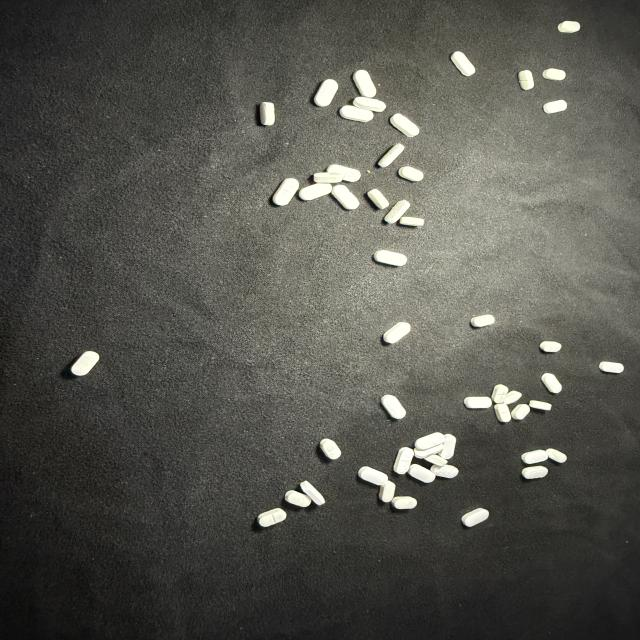pill: (272, 178, 299, 205), (71, 351, 99, 376), (331, 184, 359, 209), (390, 114, 419, 137), (314, 79, 338, 106), (353, 70, 376, 98), (378, 144, 405, 167), (383, 322, 411, 344), (381, 395, 406, 419), (384, 200, 410, 223), (327, 165, 361, 182), (301, 481, 325, 505), (451, 52, 475, 76), (340, 105, 373, 122), (299, 183, 332, 200), (257, 508, 286, 527), (358, 467, 388, 485), (374, 250, 407, 266), (462, 508, 489, 527), (394, 447, 413, 474), (353, 97, 386, 112), (415, 433, 445, 449), (409, 464, 435, 482), (367, 189, 389, 209), (414, 444, 443, 459), (541, 373, 562, 393), (320, 439, 341, 459), (285, 491, 311, 507), (440, 434, 456, 459), (522, 450, 548, 464), (399, 166, 423, 181), (431, 465, 458, 478), (522, 466, 548, 479), (379, 481, 395, 502), (260, 102, 274, 125), (313, 172, 342, 183), (464, 397, 492, 408), (494, 404, 511, 422), (492, 384, 508, 403), (518, 70, 533, 90), (392, 497, 417, 509), (544, 100, 567, 113), (546, 449, 567, 463), (512, 404, 530, 420), (471, 315, 495, 327), (398, 216, 424, 227), (503, 390, 522, 404), (558, 21, 580, 33), (425, 454, 447, 466), (543, 68, 565, 80), (599, 362, 623, 373), (540, 341, 561, 352), (529, 401, 551, 410)
